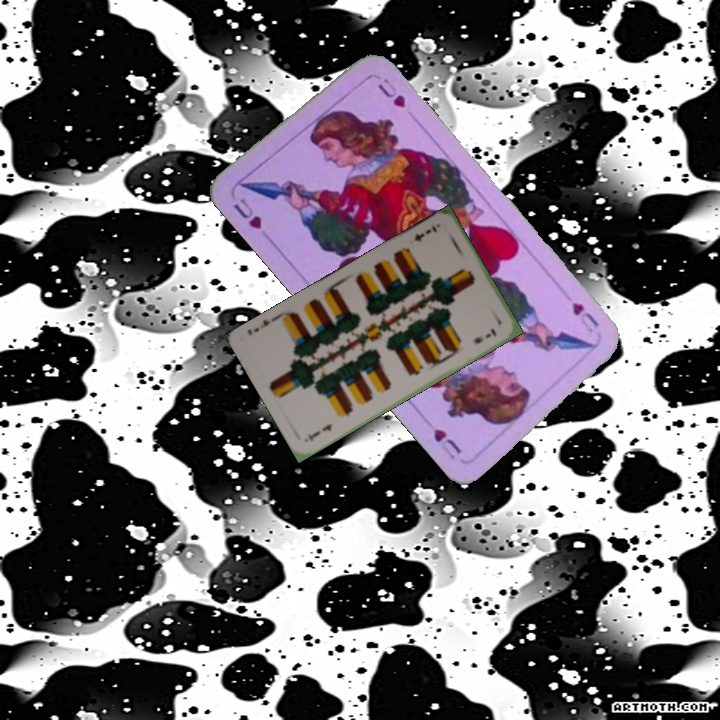E7: (303, 420, 335, 445), (410, 221, 440, 244)
HU: (229, 194, 265, 232), (568, 298, 601, 335)
